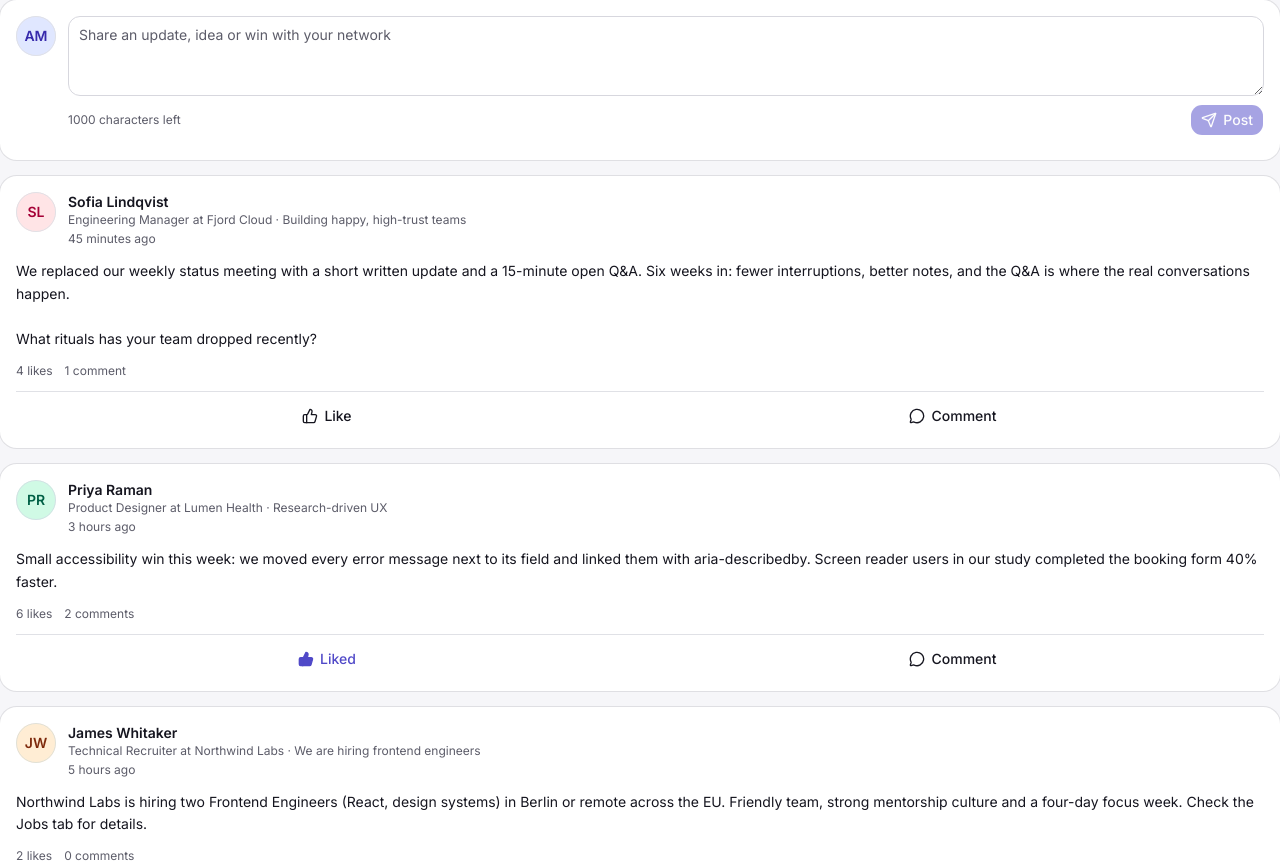
it: FeedList › lets the author delete their own post
Type "Temporary post" into the text box labelled "Share an update".
click(666, 56); type("Temporary post")  # box [68,16,1264,96]
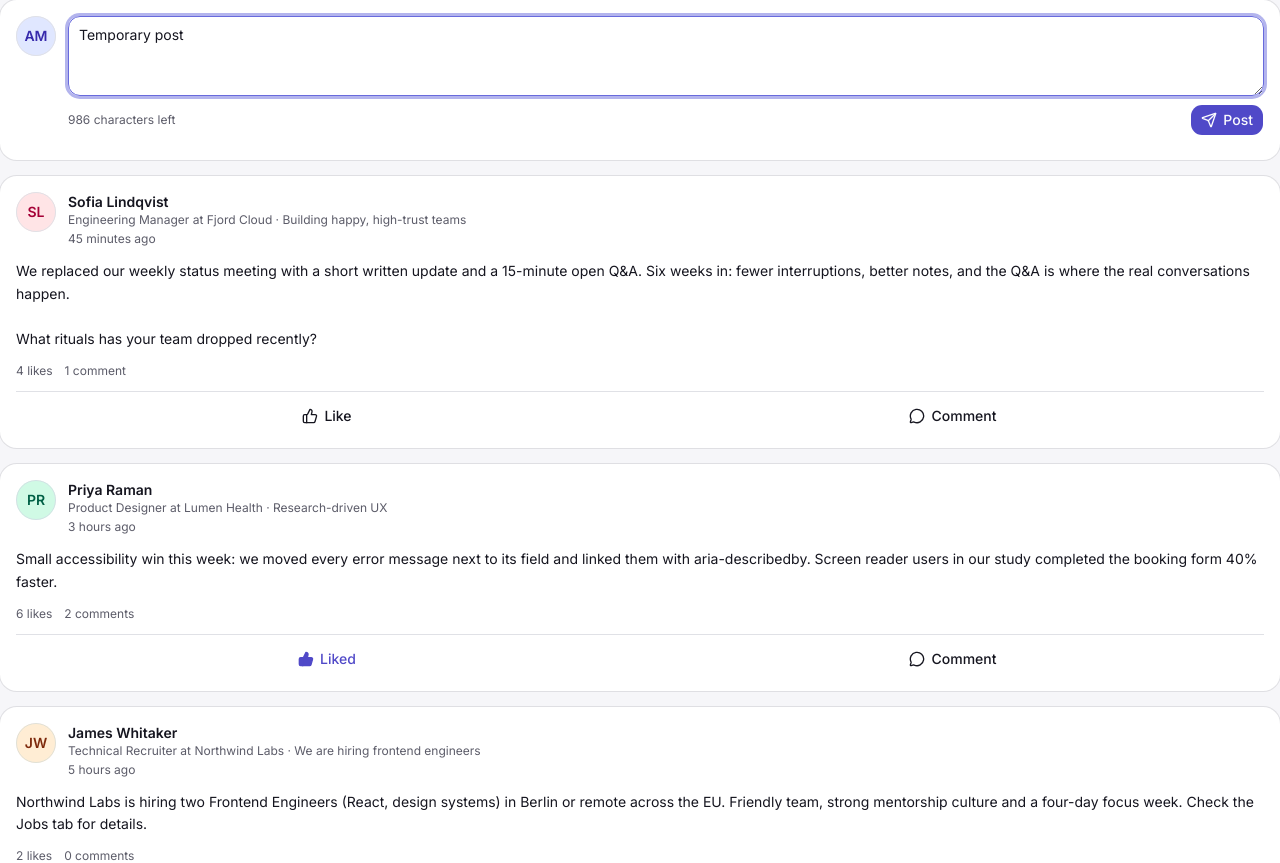
Click the button "Post".
click(1227, 120)  # box [1190,104,1264,136]
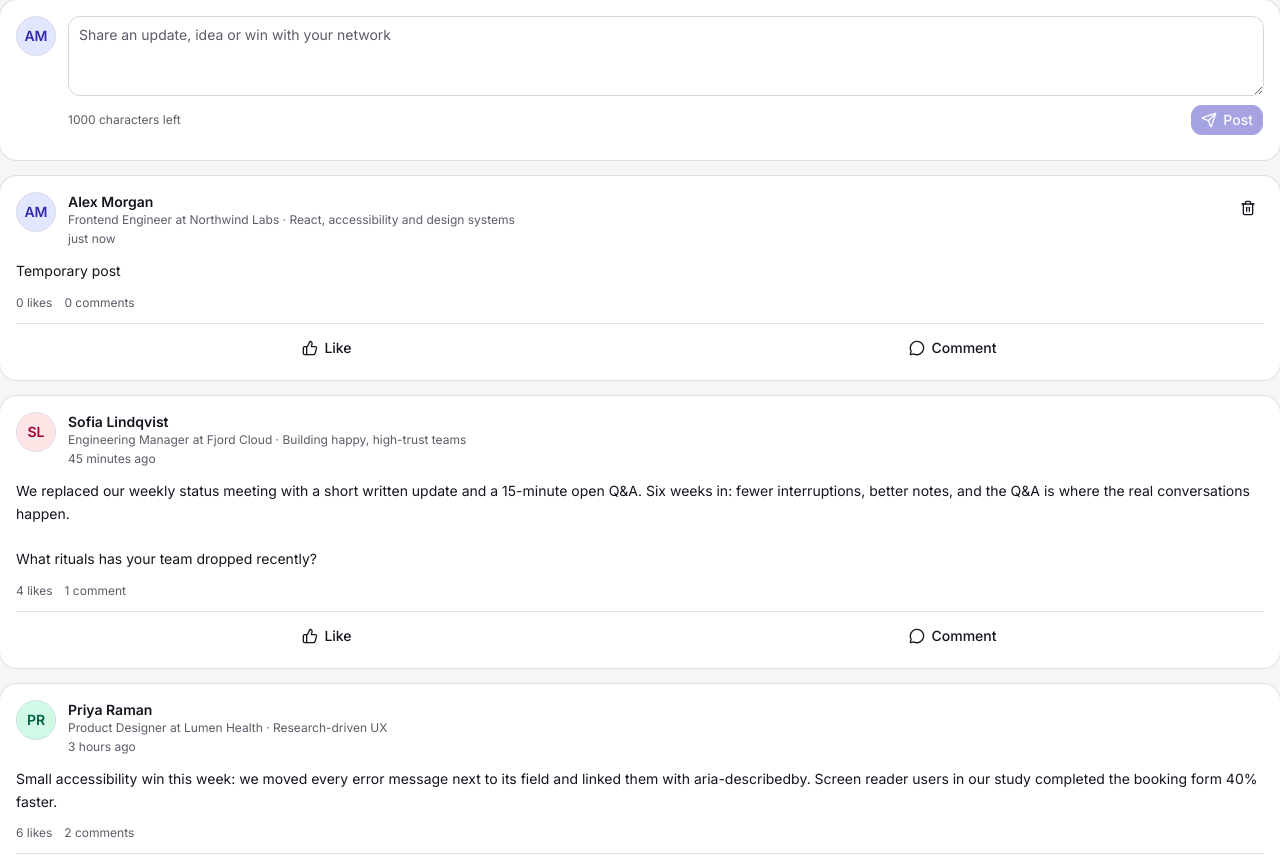
Click the button named "Delete post".
click(1248, 208)  # box [1232,192,1264,224]
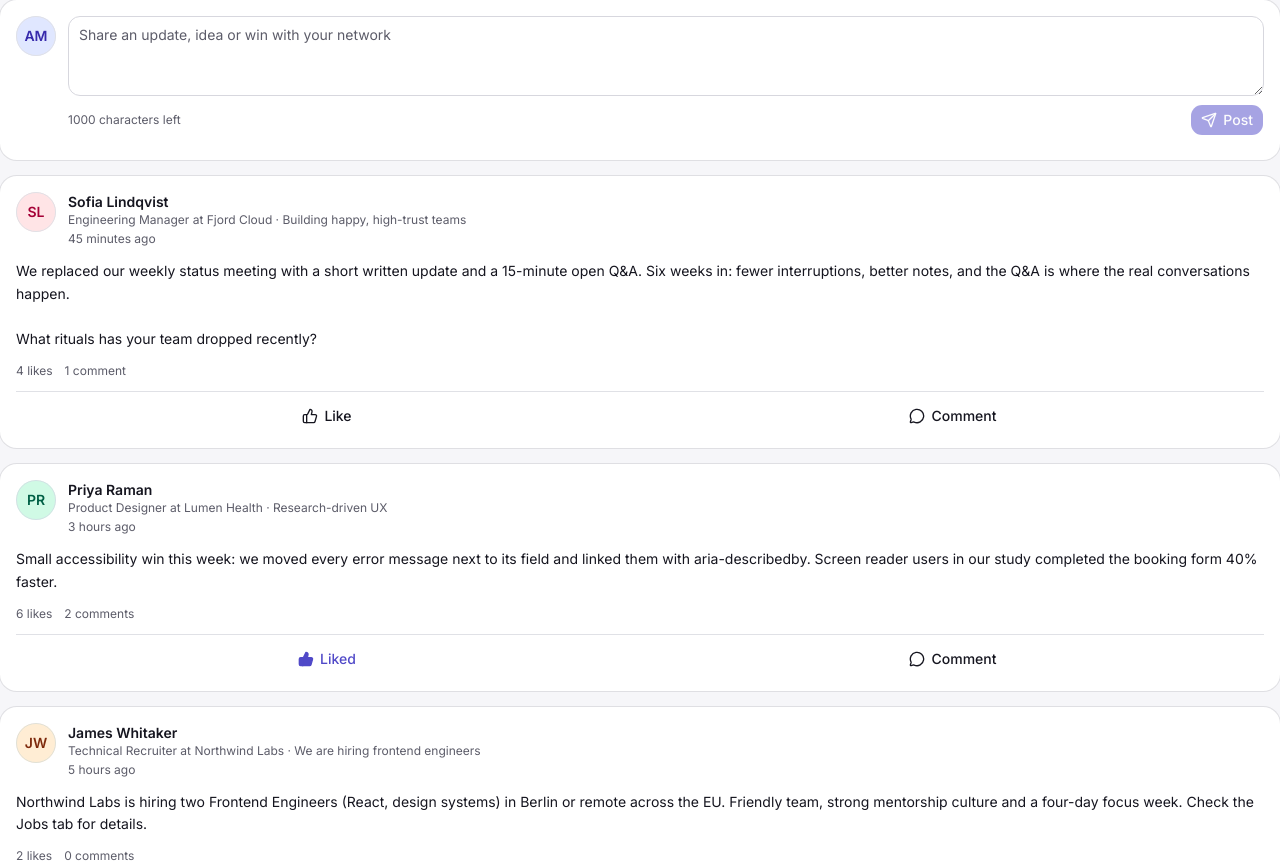
Expected: the text "Temporary post" is gone
